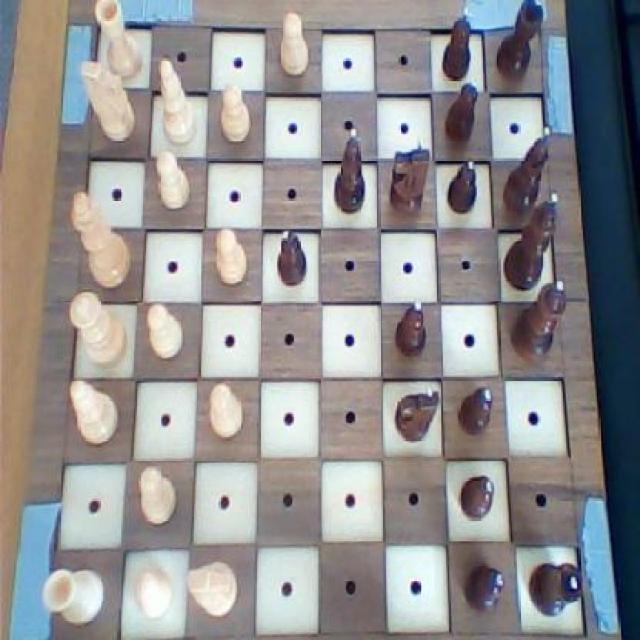bishop: (500, 122, 555, 220), (330, 125, 372, 223)
black-bishop: (498, 189, 564, 291)
black-king: (388, 134, 432, 218), (389, 382, 440, 446)
black-knight: (461, 552, 507, 621), (391, 294, 434, 361), (438, 5, 474, 79), (455, 382, 498, 443), (444, 74, 480, 145), (444, 152, 482, 216), (274, 226, 309, 291), (457, 468, 498, 520)
black-pawn: (505, 276, 570, 372)
black-queen: (491, 0, 546, 85), (524, 552, 588, 620)
black-rook: (64, 374, 124, 452), (153, 54, 200, 147)
white-bishop: (69, 188, 134, 292)
white-king: (78, 56, 141, 146), (183, 552, 240, 625)
white-knight: (131, 464, 181, 528), (211, 224, 254, 292), (131, 563, 177, 623), (206, 378, 248, 442), (215, 78, 252, 150), (276, 6, 312, 79), (154, 146, 192, 214), (147, 300, 186, 361)
white-pawn: (68, 289, 129, 371)
white-queen: (36, 558, 106, 630), (90, 0, 148, 83)
